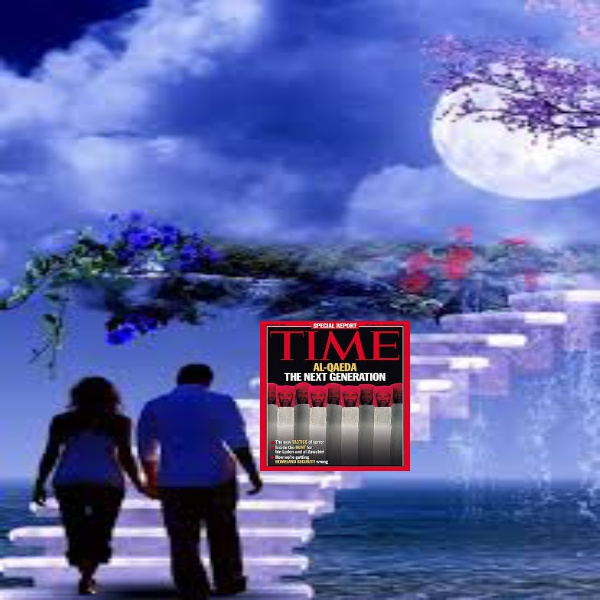time_cover: (262, 319, 409, 479)
